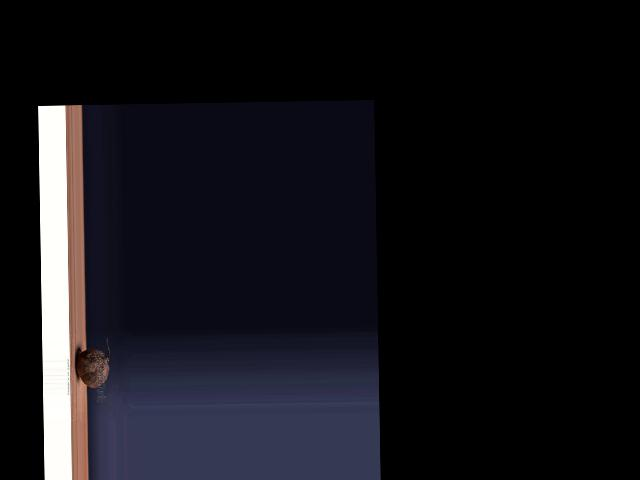beet: (75, 336, 110, 387)
